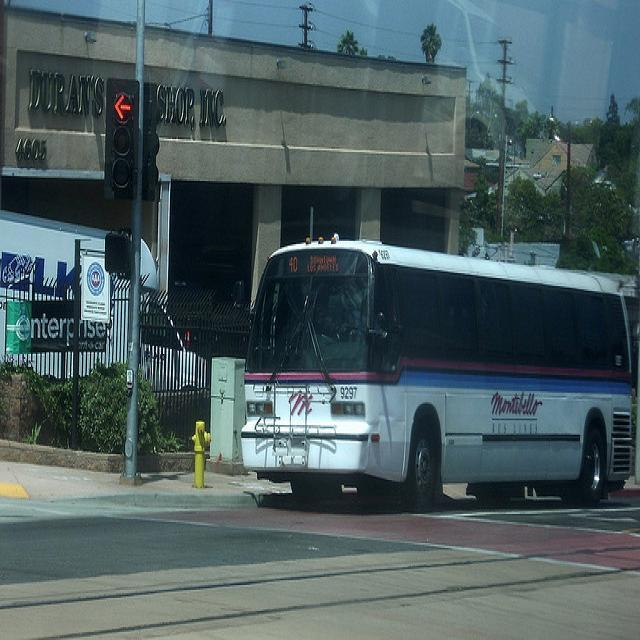fire_hydrant: (190, 420, 213, 490)
